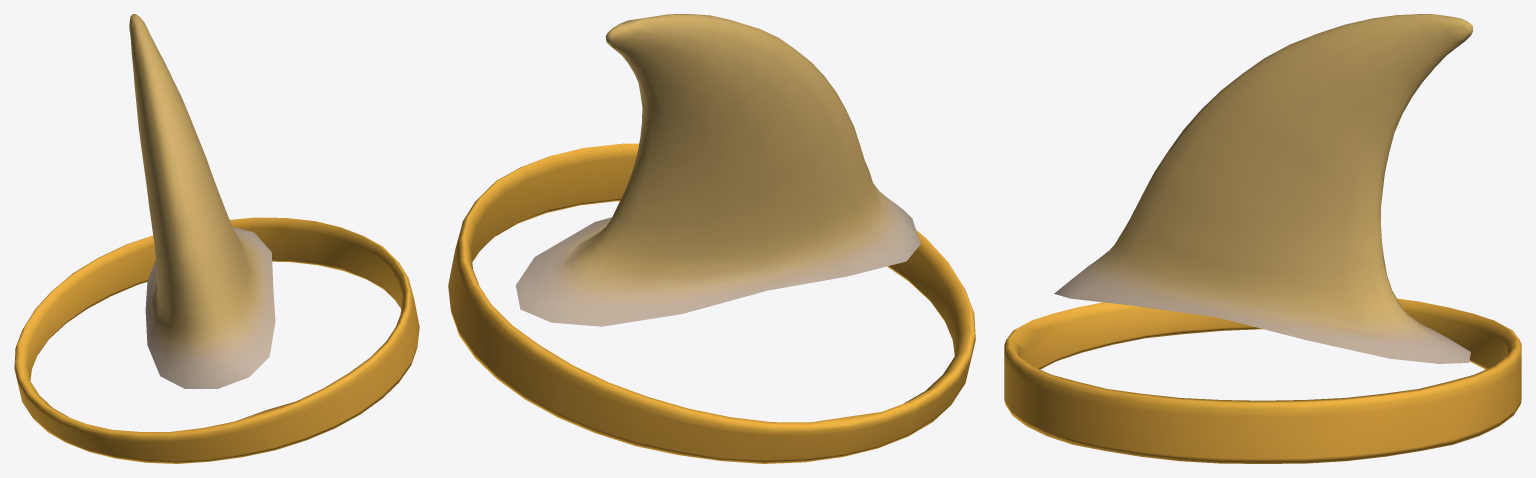
Rendered from fincrest-r3.glb.
3 renders of one model, left to right at view 1: azimuth 30°, elevation 25°; view 2: azimuth 150°, elevation 25°; view 3: azimuth 270°, elevation 25°, orthographic. The views are drawn at different scales.
Parts seen in each view (by area): view 1: tripo_node_0a1bae13-ffa4-4a6b-8c04-1a2f9660f400; view 2: tripo_node_0a1bae13-ffa4-4a6b-8c04-1a2f9660f400; view 3: tripo_node_0a1bae13-ffa4-4a6b-8c04-1a2f9660f400.
Boxes of the visible parts, x1,y1,x2,y2 form: tripo_node_0a1bae13-ffa4-4a6b-8c04-1a2f9660f400: (14, 14, 419, 463); tripo_node_0a1bae13-ffa4-4a6b-8c04-1a2f9660f400: (448, 14, 975, 463); tripo_node_0a1bae13-ffa4-4a6b-8c04-1a2f9660f400: (1004, 14, 1521, 463).
Bounding box in the file's own units: 0.998 × 0.877 × 0.998.
Materials: 1 (1 with a texture image).
